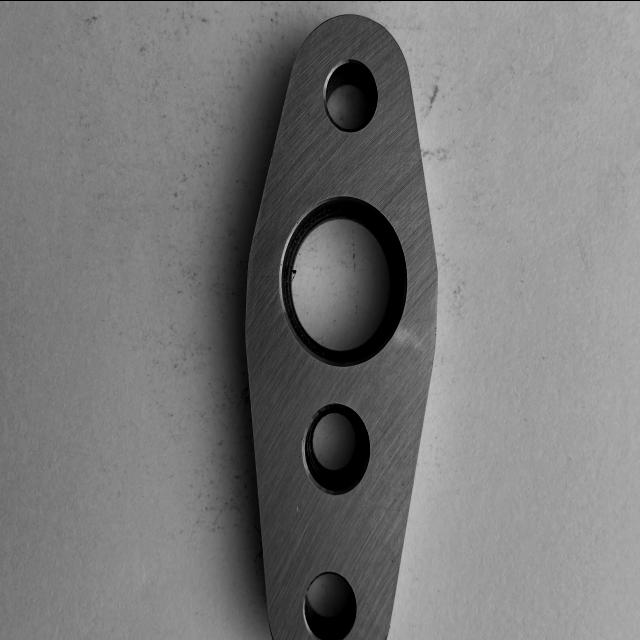chap: (296, 500, 304, 512)
